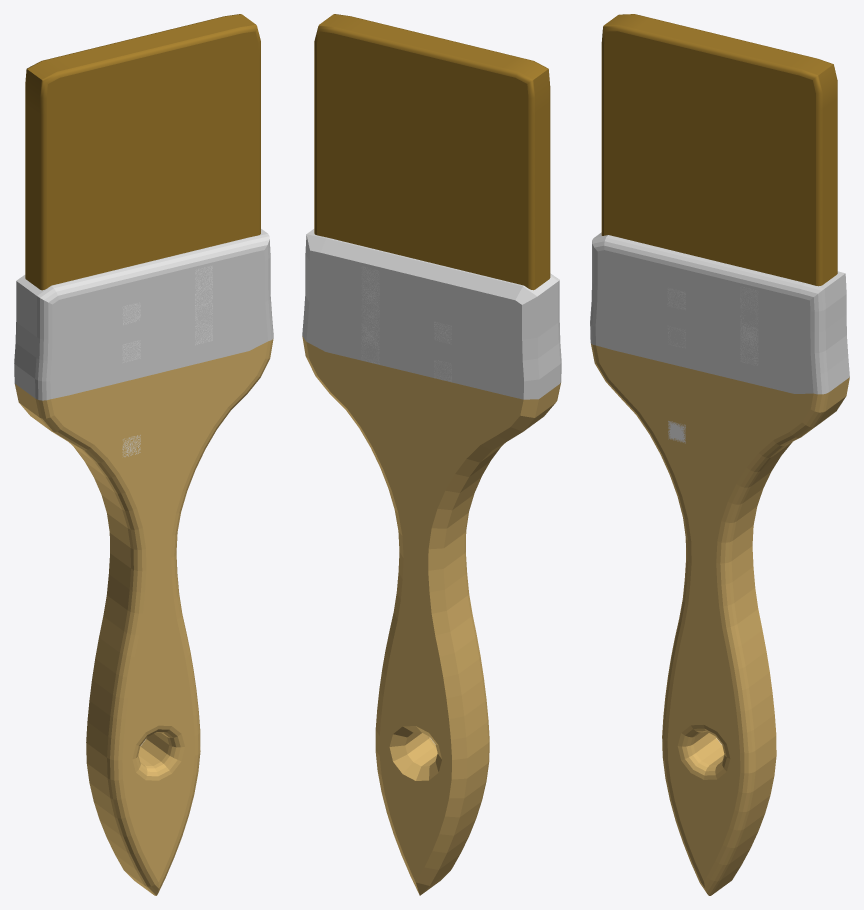
3 renders of one model, left to right at view 1: azimuth 30°, elevation 25°; view 2: azimuth 150°, elevation 25°; view 3: azimuth 330°, elevation 25°, orthographic.
Visible parts, largest first — view 1: Connect.2, Cap_1_1, Extrude.1, Rounding_1_1, Cap_1; view 2: Connect.2, Cap_2_1, Extrude.1, Rounding_2_1, Cap_2, Rounding_1_1; view 3: Connect.2, Cap_1_1, Extrude.1, Rounding_1_1, Cap_1.
Part boxes in pixels (box(x1,y1,x2,y2)): Connect.2: box(14, 229, 273, 895); Cap_1_1: box(47, 31, 258, 288); Extrude.1: box(25, 14, 255, 289); Rounding_1_1: box(40, 25, 260, 290); Cap_1: box(122, 266, 212, 456); Connect.2: box(302, 229, 561, 895); Cap_2_1: box(317, 31, 528, 287); Extrude.1: box(319, 14, 549, 289); Rounding_2_1: box(314, 25, 534, 290); Cap_2: box(361, 266, 451, 382); Rounding_1_1: box(334, 14, 550, 278); Connect.2: box(590, 232, 849, 895); Cap_1_1: box(604, 31, 815, 285); Extrude.1: box(604, 14, 836, 284); Rounding_1_1: box(601, 25, 822, 286); Cap_1: box(667, 286, 758, 443).
Bounding box in the file's own units: 68.79 × 234 × 16.13.
